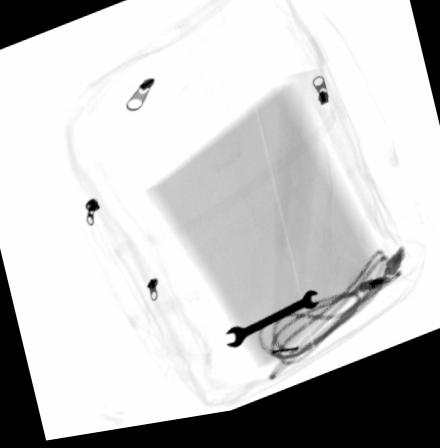Wrench: (222, 299, 320, 357)
